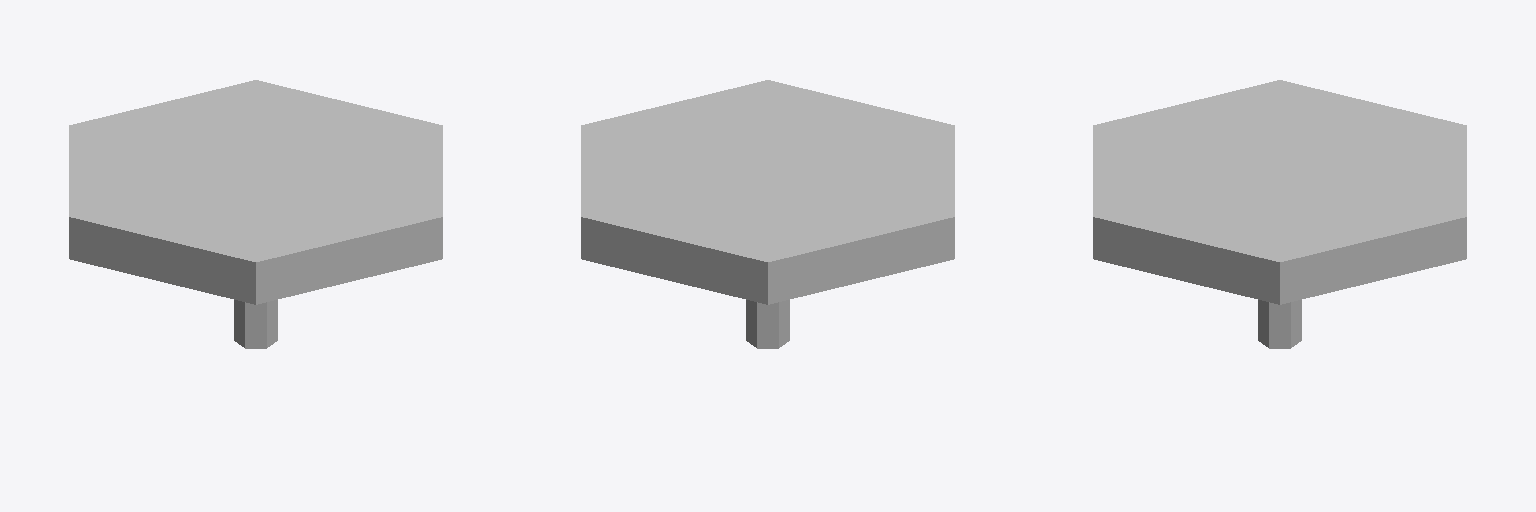
The model's file is wfc_track_platform.obj.
3 views of the same model, side by side, from view 1: azimuth 30°, elevation 25°; view 2: azimuth 150°, elevation 25°; view 3: azimuth 270°, elevation 25° (orthographic).
Parts seen in each view (by area): view 1: Platform; view 2: Platform; view 3: Platform.
Boxes of the visible parts, x1,y1,x2,y2 form: Platform: [69, 80, 442, 348]; Platform: [581, 80, 954, 348]; Platform: [1093, 80, 1466, 348].
Size of the model in its own units: 1.15 by 0.5 by 1.